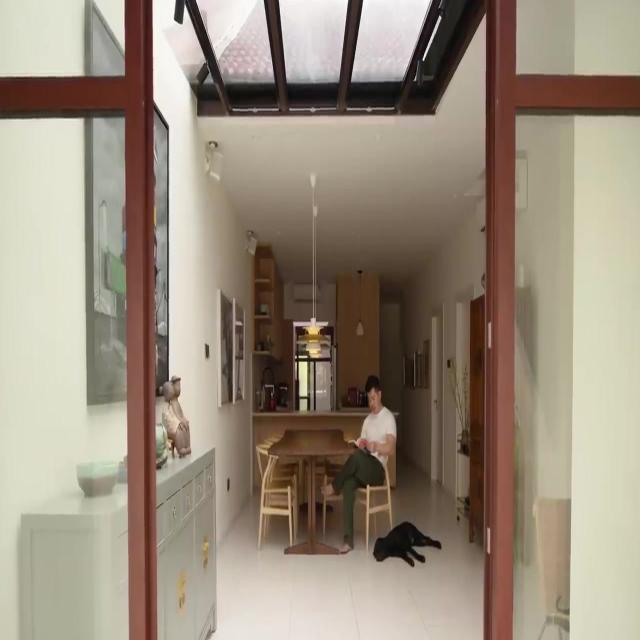obstacle: (264, 428, 358, 554)
person: (320, 374, 396, 554)
